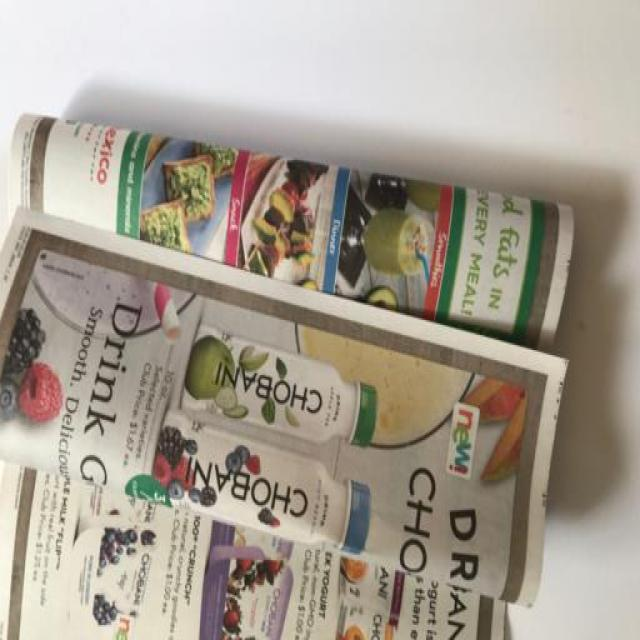paper: (1, 94, 587, 640)
